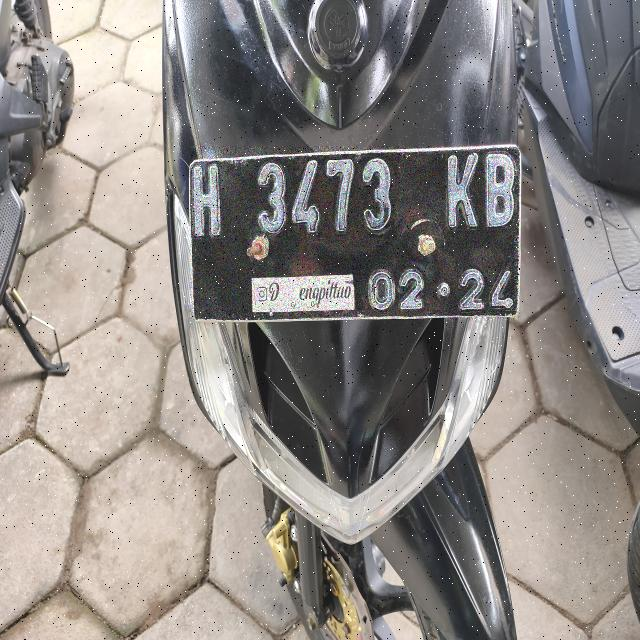plate: (190, 146, 519, 319)
